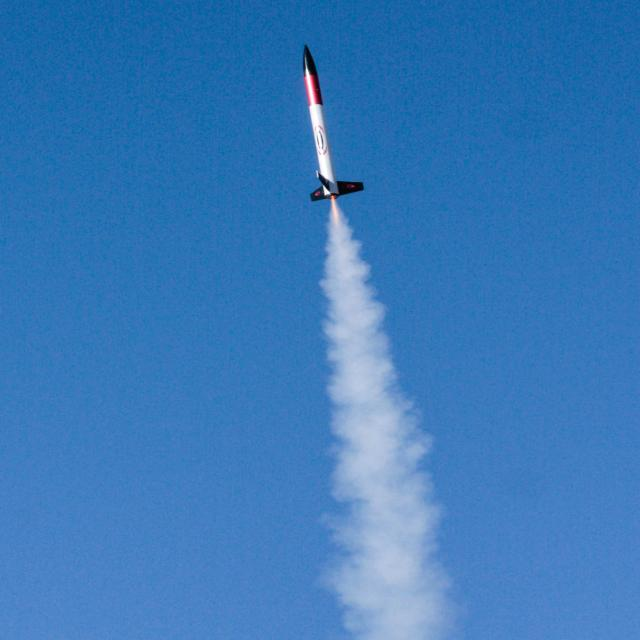Rocket: (299, 43, 366, 202)
